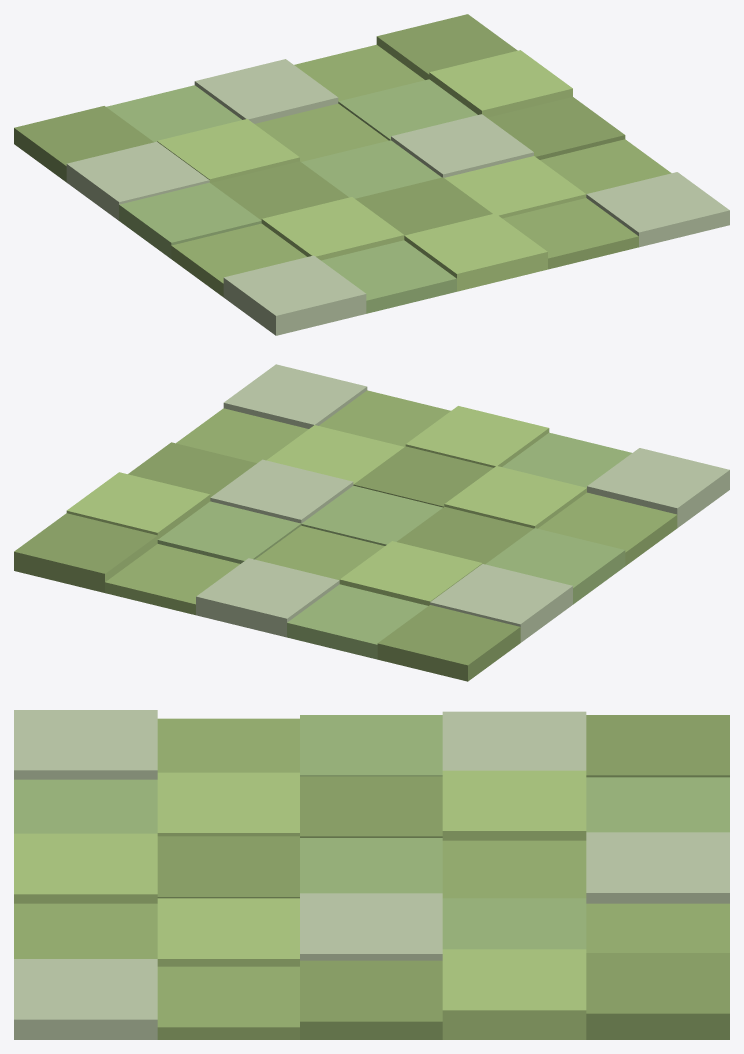
File: zelenica.fbx
The picture shows the model from 3 angles, top to bottom: view 1: azimuth 30°, elevation 25°; view 2: azimuth 150°, elevation 25°; view 3: azimuth 270°, elevation 25°; orthographic projection. The views are drawn at different scales.
Parts seen in each view (by area): view 1: Camera; view 2: Camera; view 3: Camera.
Part boxes in pixels (<box>): Camera: <box>14,14,729,335</box>; Camera: <box>14,364,729,681</box>; Camera: <box>14,710,729,1039</box>.
Bounding box in the file's own units: 998 × 45.8 × 998.
